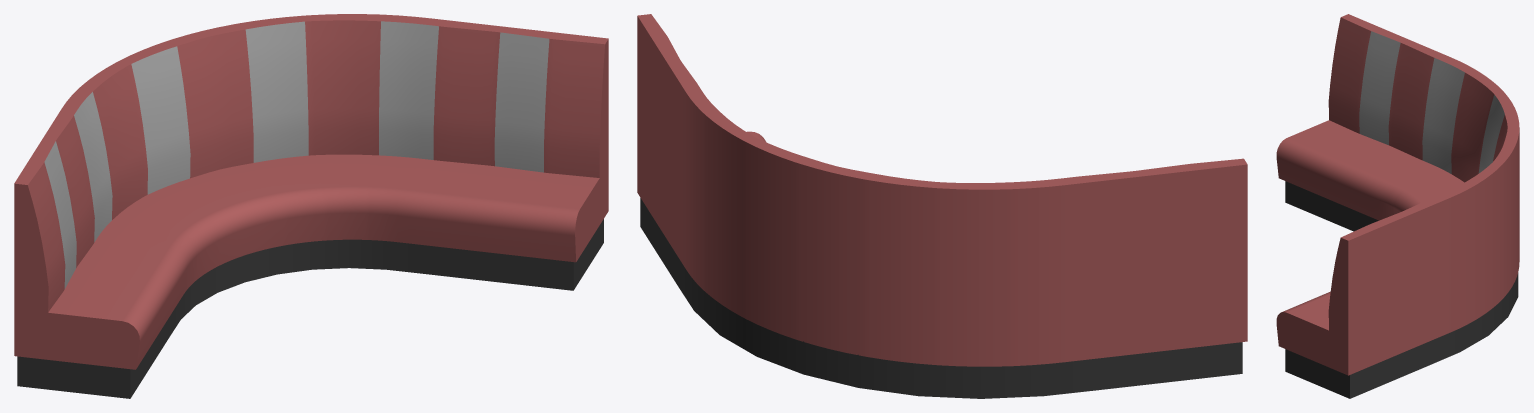
The model's file is Diner_Bench_Corner.fbx.
3 views of the same model, side by side, from view 1: azimuth 30°, elevation 25°; view 2: azimuth 150°, elevation 25°; view 3: azimuth 270°, elevation 25° (orthographic). The views are drawn at different scales.
Visible parts, largest first — view 1: pCube301; view 2: pCube301; view 3: pCube301.
Boxes of the visible parts, x1=… form: pCube301: x1=14, y1=14, x2=608, y2=398; pCube301: x1=637, y1=14, x2=1247, y2=398; pCube301: x1=1276, y1=14, x2=1519, y2=398.
Size of the model in its own units: 18.61 by 6.11 by 8.43.
